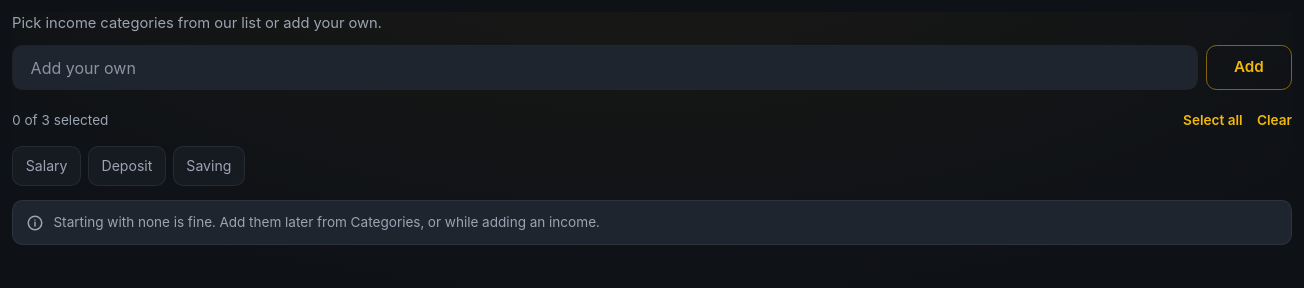
Scenario: CategoriesStep › explains a duplicate and clears the message when the text changes
Step 1. Type "salary" into the field labelled "Add your own" → (605, 68), box [12,45,1198,90]
Then press Enter
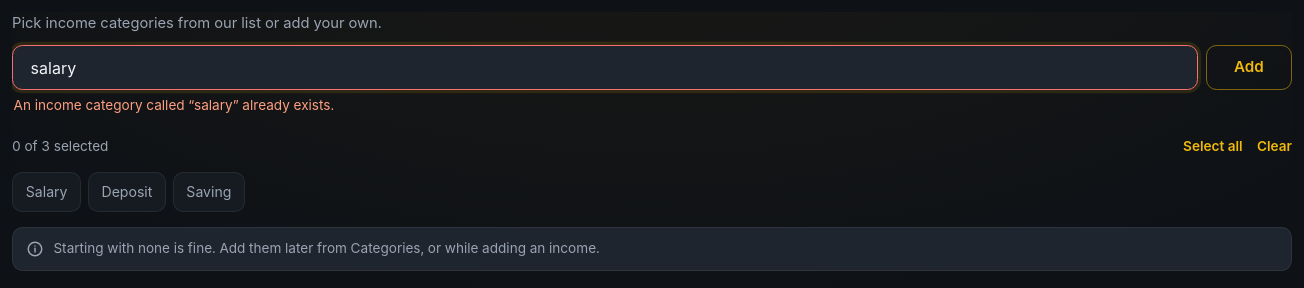
Now the message reads "An income category called “salary” already exists.", box [14,98,334,114]
Step 2. Type "x" into the field named "Add your own" → (605, 68), box [12,45,1198,90]
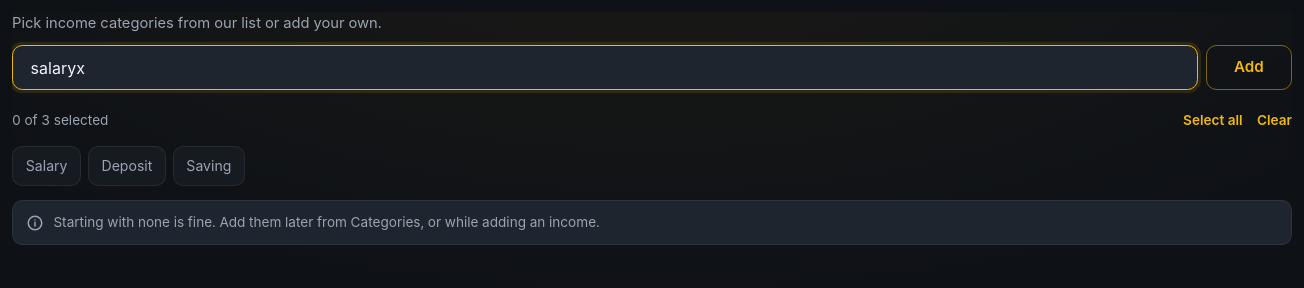
Now the message "An income category called “salary” already exists." is gone
